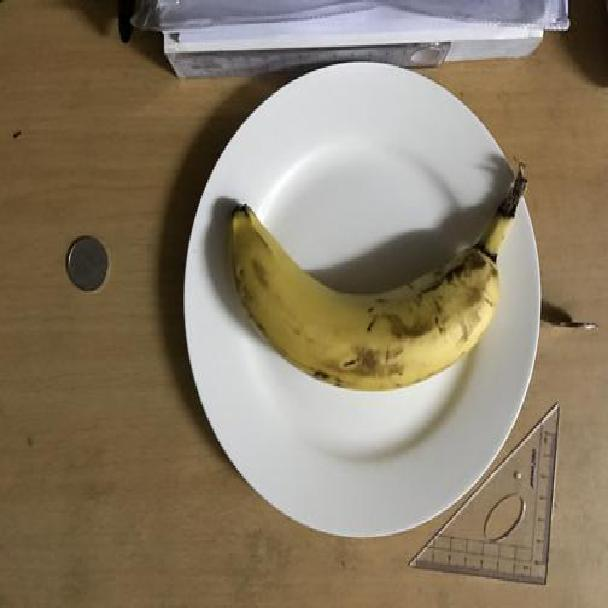banana: (224, 203, 514, 393)
